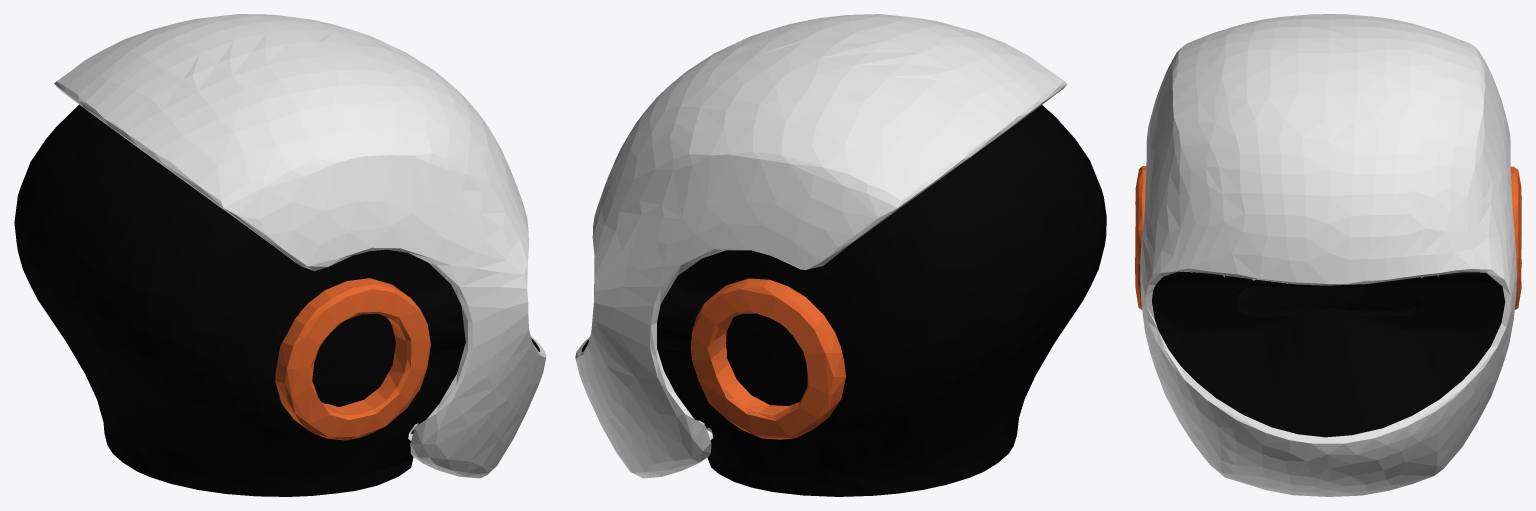
File: head_2.dae
The picture shows the model from 3 angles, left to right: view 1: azimuth 30°, elevation 25°; view 2: azimuth 150°, elevation 25°; view 3: azimuth 270°, elevation 25°; orthographic projection. The views are drawn at different scales.
Parts seen in each view (by area): view 1: Head_2; view 2: Head_2; view 3: Head_2.
Boxes of the visible parts, box(x1,y1,x2,y2) form: Head_2: box(14, 14, 546, 496); Head_2: box(575, 14, 1106, 496); Head_2: box(1135, 14, 1521, 496).
Size of the model in its own units: 0.2225 by 0.1873 by 0.202.
